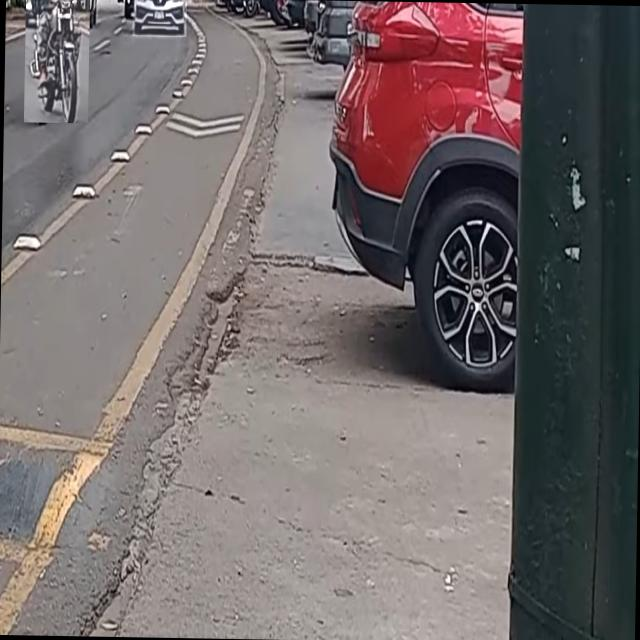car: (132, 0, 187, 36)
motorcycle: (23, 0, 89, 123)
